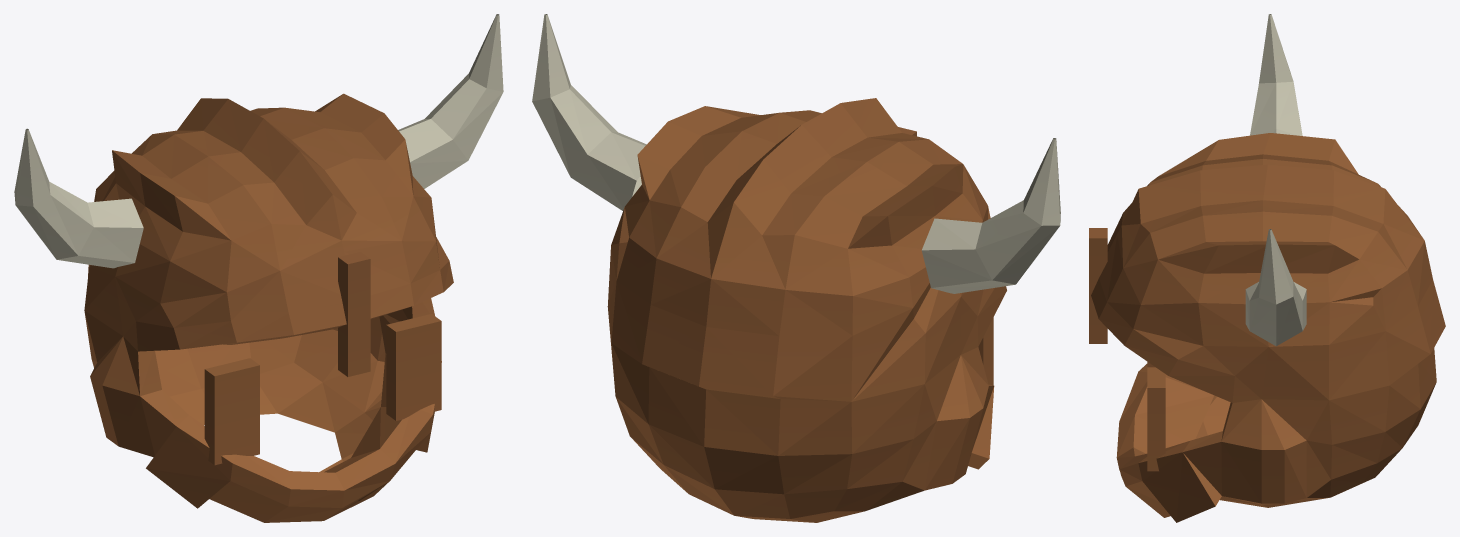
The model's file is enano_casco_1.glb.
3 views of the same model, side by side, from view 1: azimuth 30°, elevation 25°; view 2: azimuth 150°, elevation 25°; view 3: azimuth 270°, elevation 25° (orthographic). The views are drawn at different scales.
Parts seen in each view (by area): view 1: enano_casco_1; view 2: enano_casco_1; view 3: enano_casco_1.
Part boxes in pixels (x1,y1,x2,y2): enano_casco_1: (14, 14, 503, 522); enano_casco_1: (532, 14, 1060, 522); enano_casco_1: (1089, 14, 1445, 522).
Bounding box in the file's own units: 1.72 × 1.36 × 1.16.
1 material, 1 textured.
